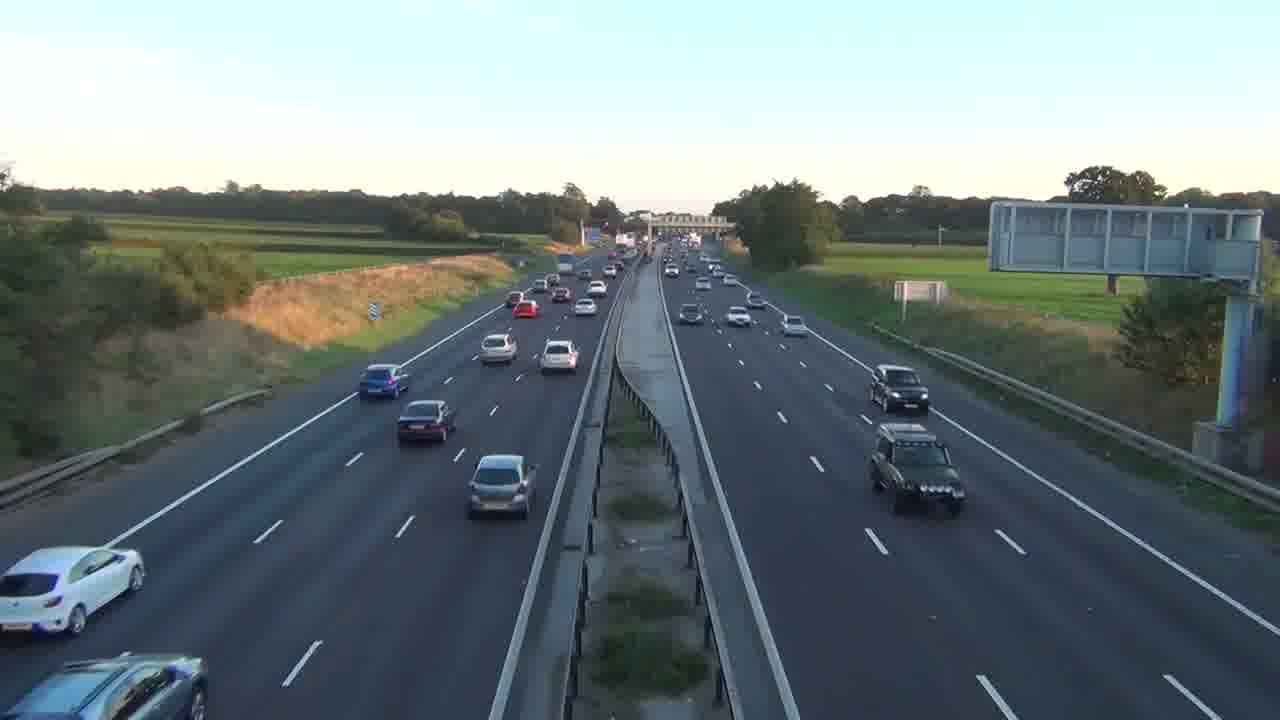car: (1, 651, 209, 719), (0, 544, 146, 639), (466, 453, 536, 519), (866, 364, 931, 416), (396, 399, 453, 444), (358, 364, 406, 400), (539, 338, 580, 373), (479, 332, 518, 365), (574, 297, 598, 316)
truck: (866, 421, 967, 516)
